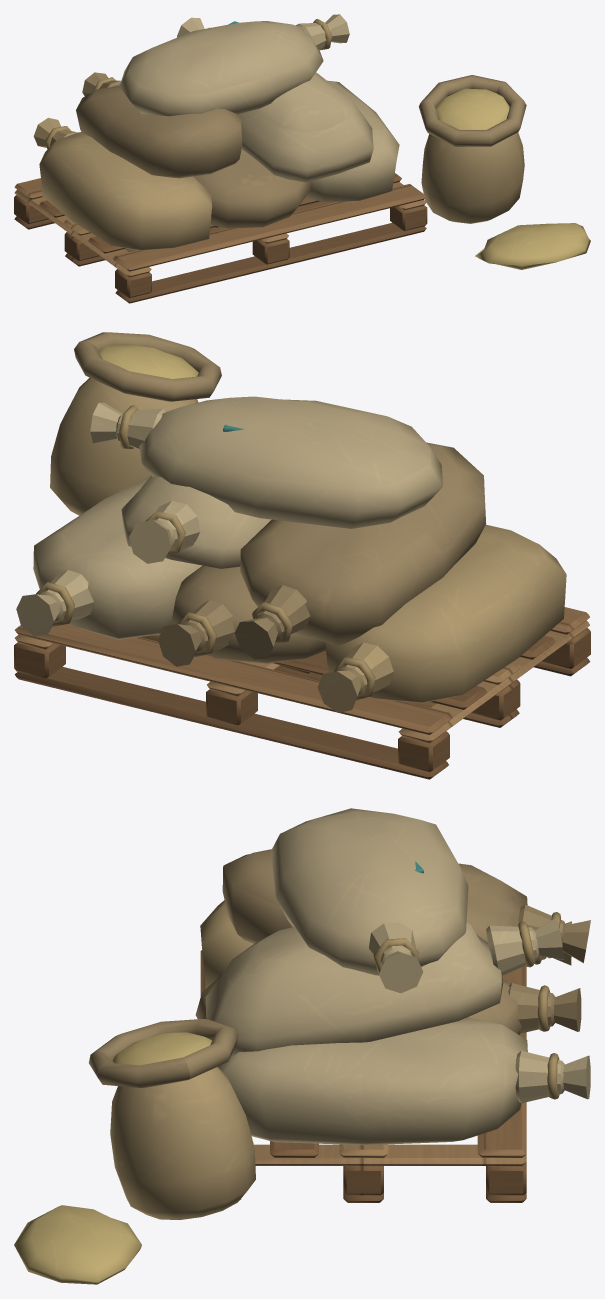
Rendered from sack_pile.glb.
3 views of the same model, one above another, from view 1: azimuth 30°, elevation 25°; view 2: azimuth 150°, elevation 25°; view 3: azimuth 270°, elevation 25° (orthographic). The views are drawn at different scales.
Visible parts, largest first — view 1: sack_pile; view 2: sack_pile; view 3: sack_pile.
Boxes of the visible parts, x1=… form: sack_pile: x1=14, y1=14, x2=590, y2=303; sack_pile: x1=14, y1=332, x2=590, y2=779; sack_pile: x1=14, y1=808, x2=590, y2=1284.
Bounding box in the file's own units: 1.68 × 0.6995 × 1.42.
11 materials, 11 textured.
